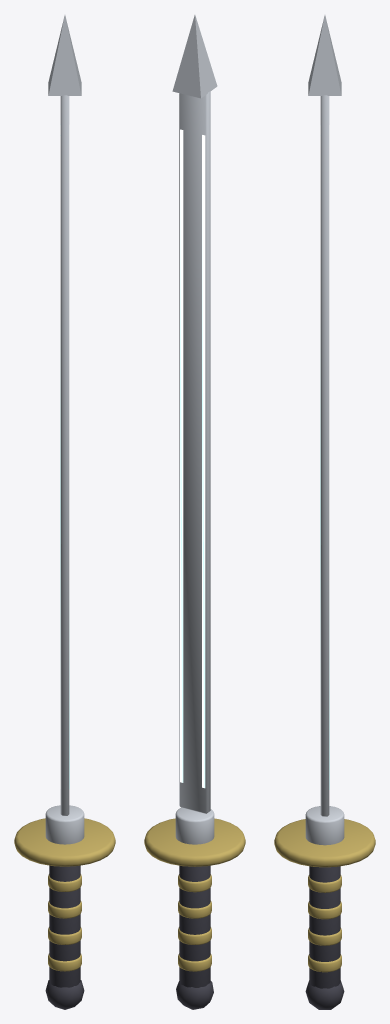
File: katana.glb
The picture shows the model from 3 angles, left to right: view 1: azimuth 90°, elevation 25°; view 2: azimuth 150°, elevation 25°; view 3: azimuth 270°, elevation 25°; orthographic projection.
Visible parts, largest first — view 1: katana; view 2: katana; view 3: katana.
Part boxes in pixels (box(x1,y1,x2,y2)): katana: box(14, 15, 115, 1009); katana: box(144, 15, 245, 1009); katana: box(274, 15, 375, 1009).
Bounding box in the file's own units: 0.104 × 1.13 × 0.104.
